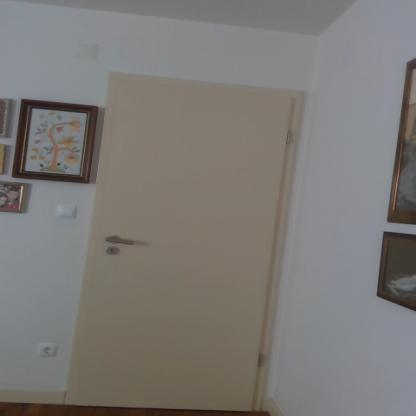door: (100, 72, 279, 415)
hinged: (257, 350, 264, 372), (287, 126, 292, 146)
lever: (103, 235, 138, 246)
